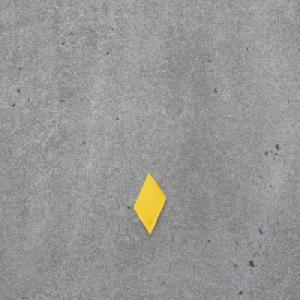PlasticPart: (132, 172, 166, 235)
